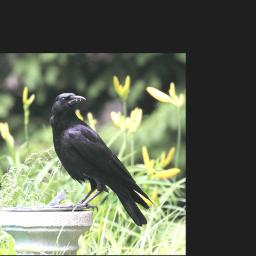Crow: (49, 92, 155, 228)
